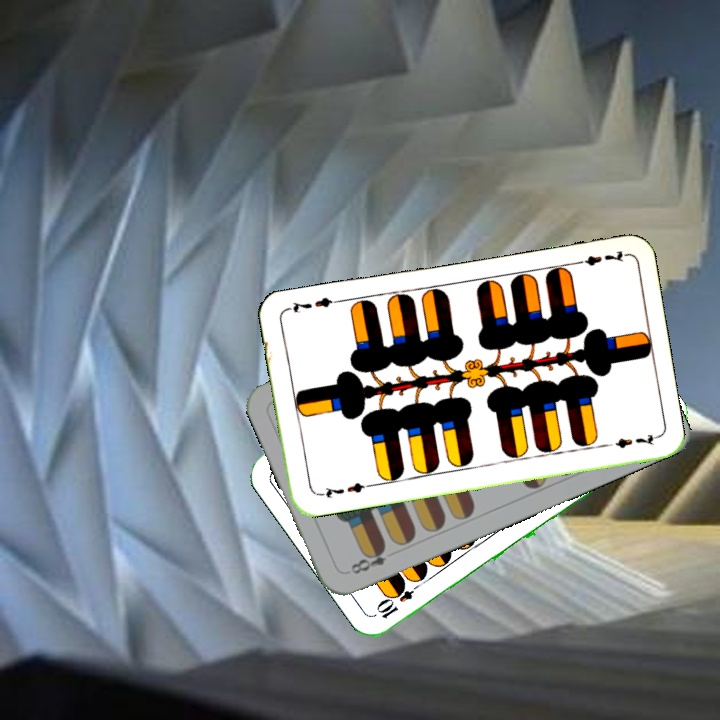E10: (373, 576, 426, 622)
E7: (313, 478, 372, 501), (569, 246, 628, 269)
E8: (343, 541, 389, 577)
